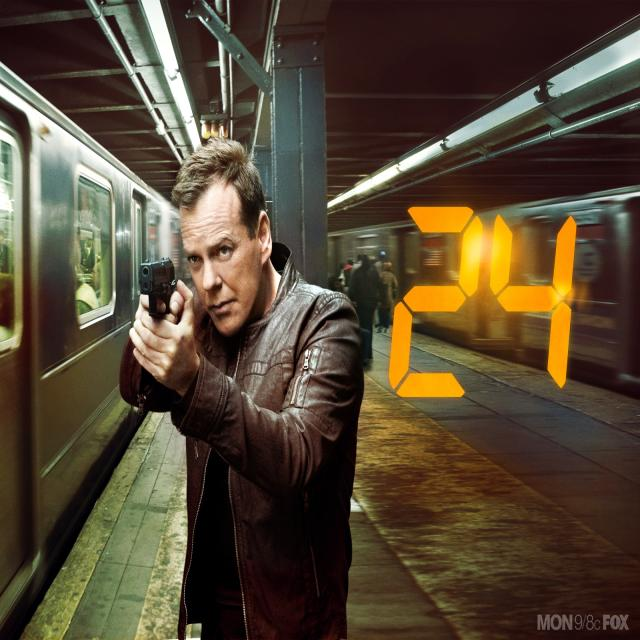body: (116, 136, 370, 640), (0, 219, 106, 351), (347, 251, 382, 360), (332, 258, 380, 291), (377, 261, 398, 334), (373, 250, 387, 279), (350, 253, 364, 276)
